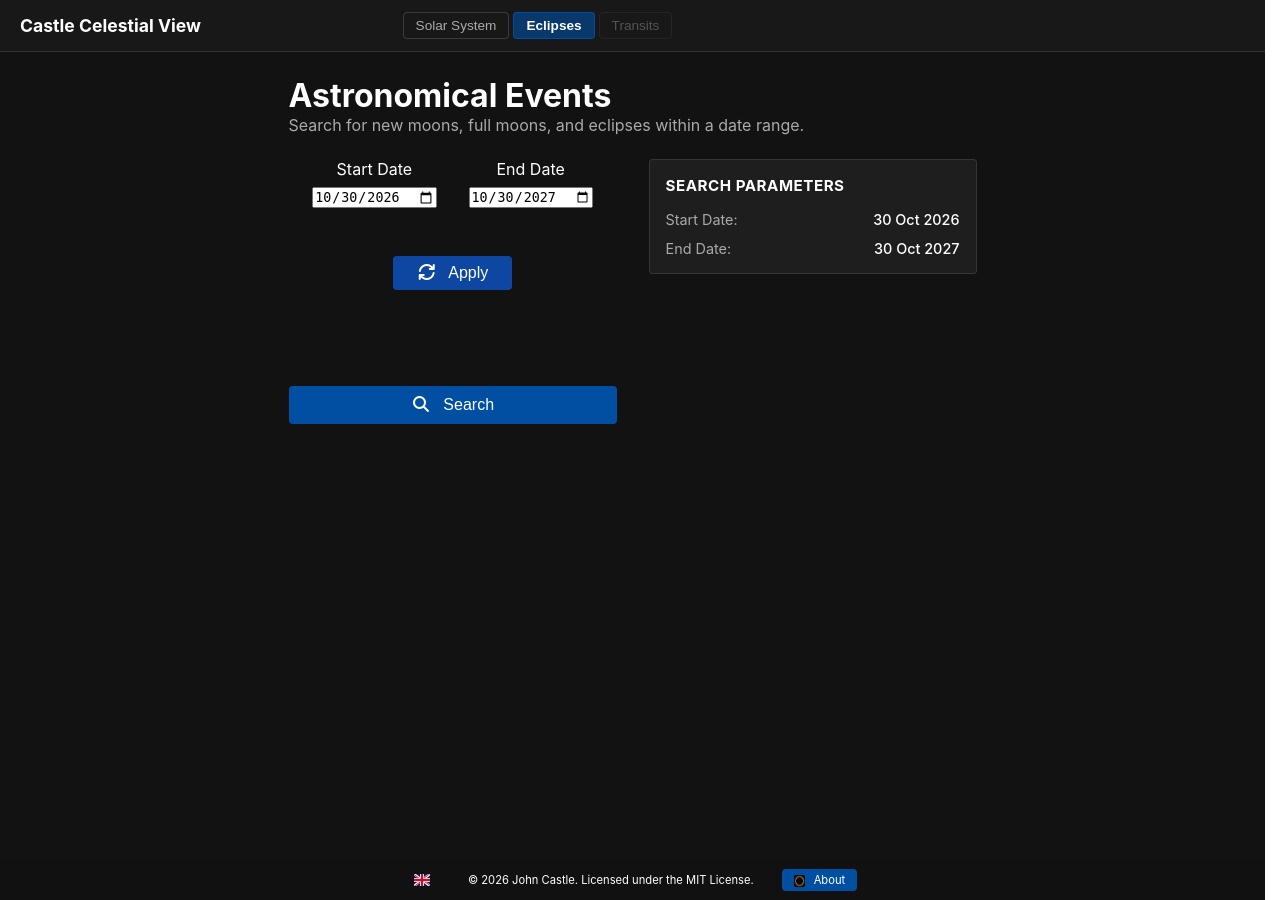
EventsView › shows an error message when the SSE connection fails
Click the button with class "search-btn".
click(452, 405)  # box [288, 386, 616, 424]
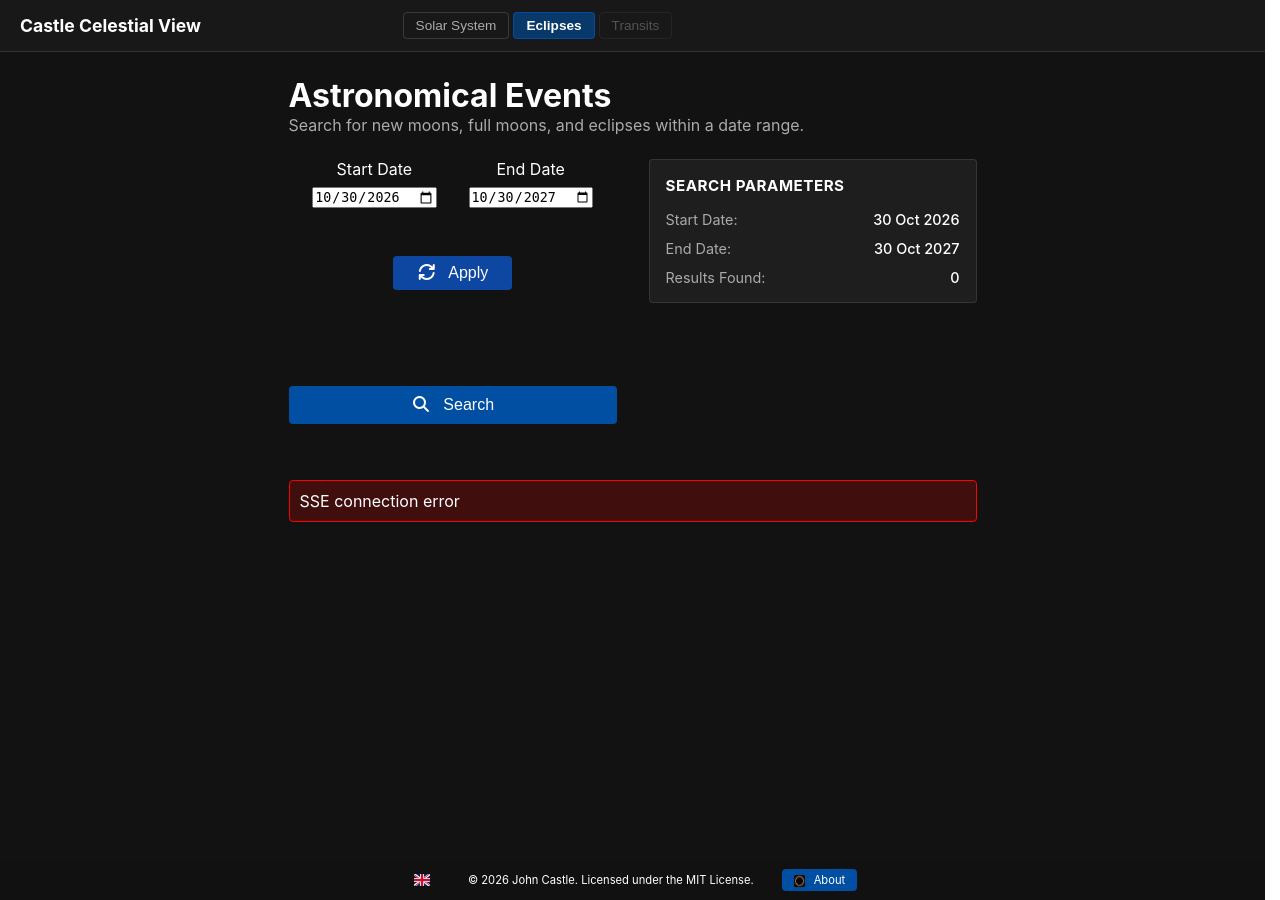
Expected: the text with class "error" reads "SSE connection error", [300, 490, 460, 510]
